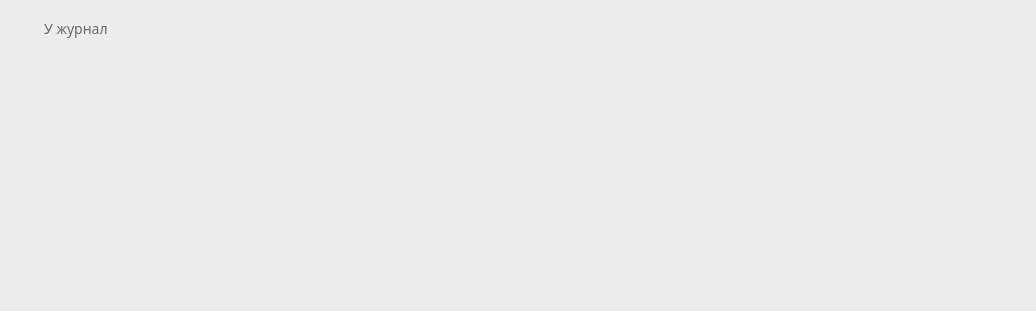
Test: JournalCard › записує рішення з підставленим висновком і обраним нагадуванням
The width and height of the screenshot is (1036, 311).
Click the button with aria-label "Додати рішення в журнал". click: click(66, 28)
box: 12,12 -> 120,44
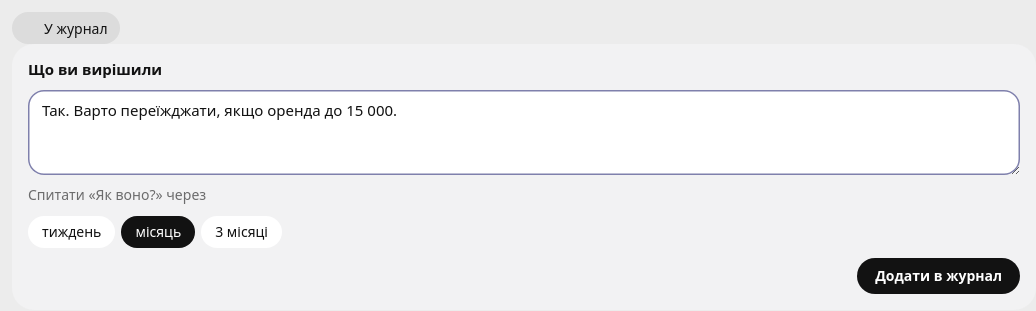
Now the text box labelled "Що ви вирішили" holds "Так. Варто переїжджати, якщо оренда до 15 000.", box 28,90 -> 1020,175
Click the radio button labelled "тиждень". click: click(72, 232)
box: 28,216 -> 115,248
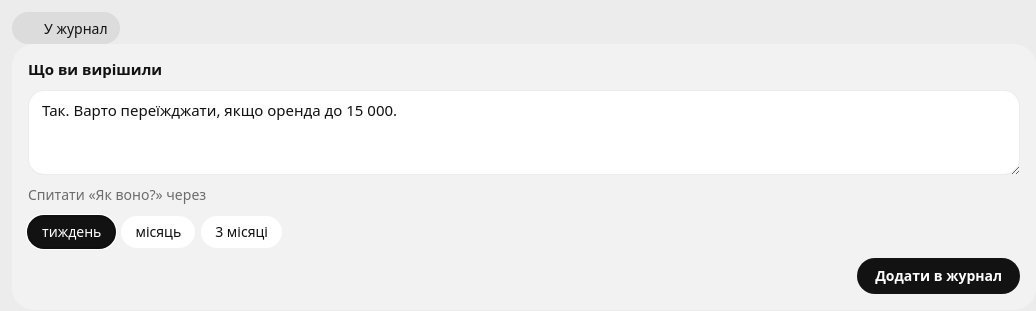
Click the button "Додати в журнал". click: click(939, 276)
box: 857,258 -> 1020,294
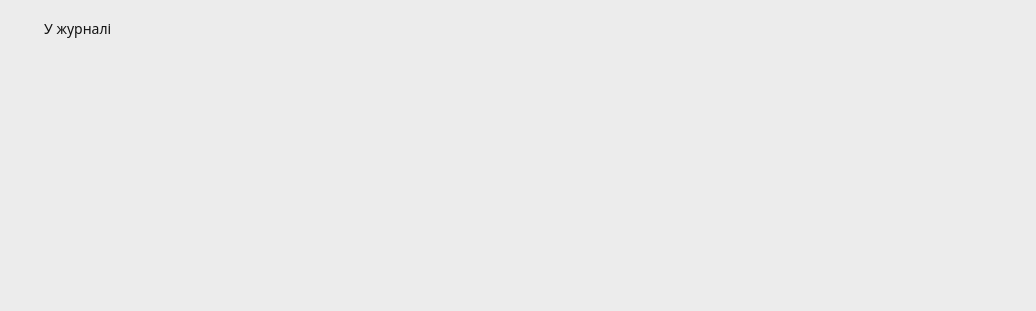
Now the button with aria-label "У журналі · спитаємо" is shown, box 12,12 -> 123,44
